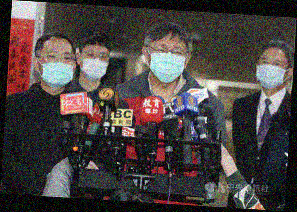with_mask: (148, 41, 187, 81), (39, 47, 76, 87), (258, 54, 288, 89), (80, 48, 110, 80)
